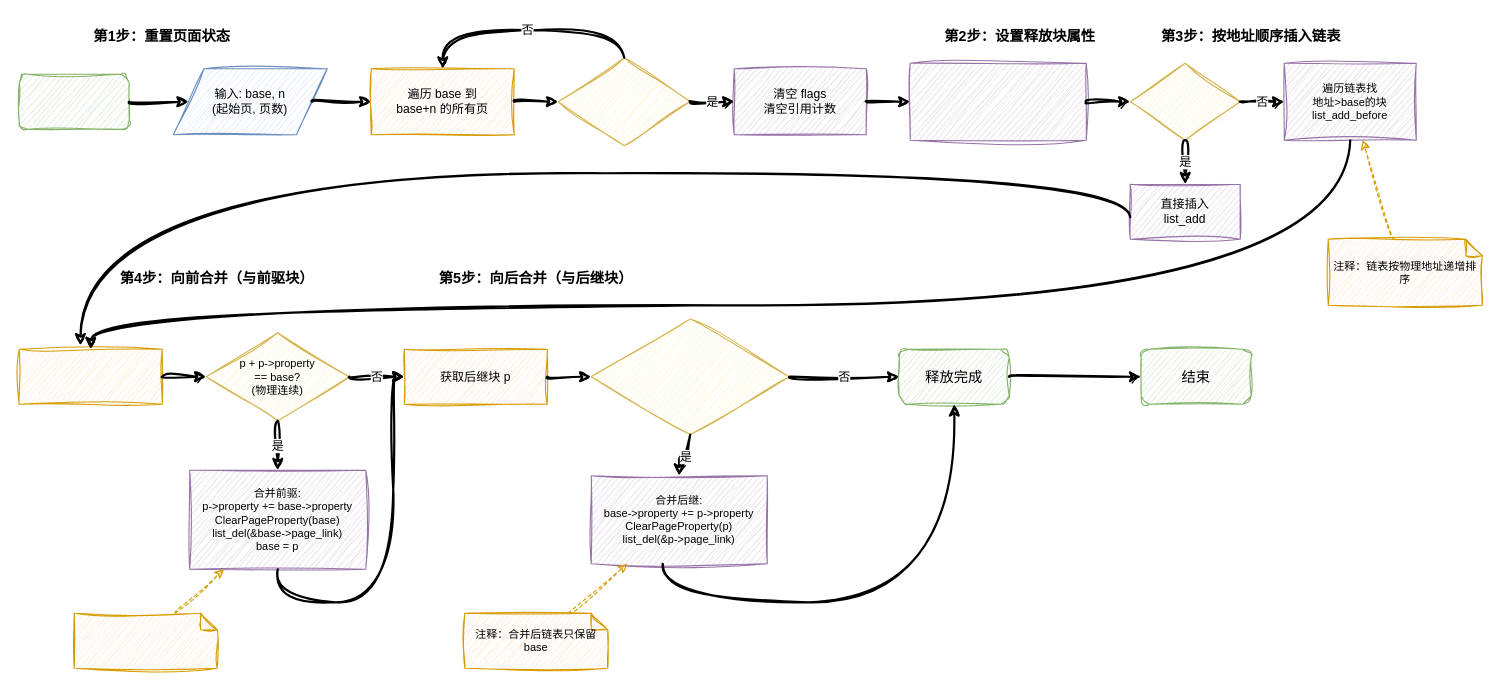
The diagram is 1502 pixels wide and 688 high, and some of its shapes have lost their labels. The shapes that lost their labels are listed below. From the top down, each one's box as (x1, y1, x2, y2) in pixels, then its label:
(18, 73, 129, 129): 开始
(557, 57, 690, 146): 检查页面 未保留且不是 空闲块首页?
(909, 62, 1086, 140): base->property = n SetPageProperty(base) nr_free += n
(1129, 62, 1240, 140): 链表为空?
(18, 348, 162, 404): 获取前驱块 p
(590, 318, 789, 435): base + base->property == p? (物理连续)
(73, 612, 217, 668): 注释：合并后链表只保留p
